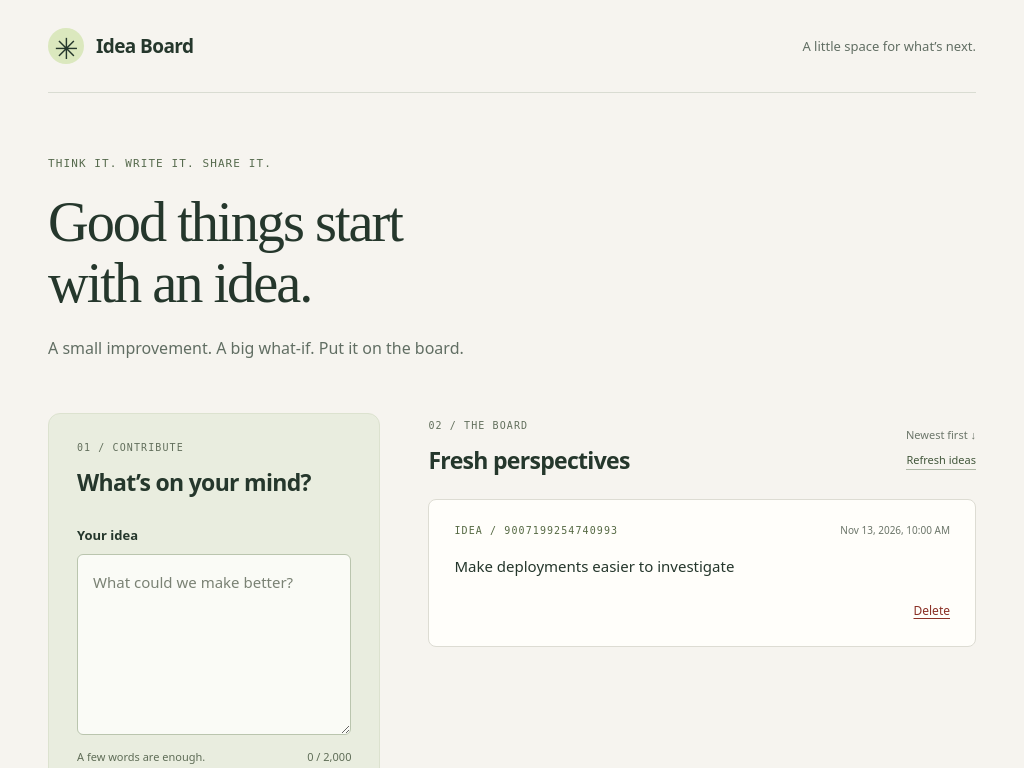
Idea Board › keeps an idea visible when deletion fails
The width and height of the screenshot is (1024, 768).
expect the button "Refresh ideas" is enabled: met, box x1=906 y1=452 x2=976 y2=470
Click the button "Delete": {"x": 932, "y": 610} x1=914 y1=598 x2=950 y2=623
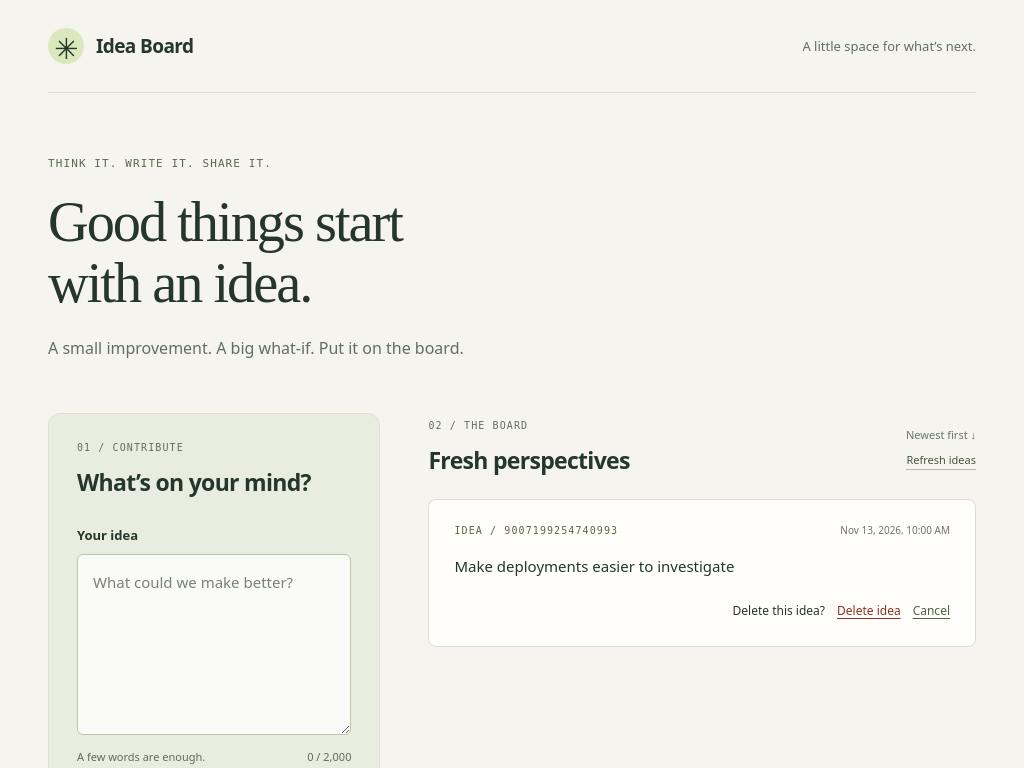
Click the button "Delete idea": {"x": 869, "y": 610} x1=837 y1=598 x2=901 y2=623
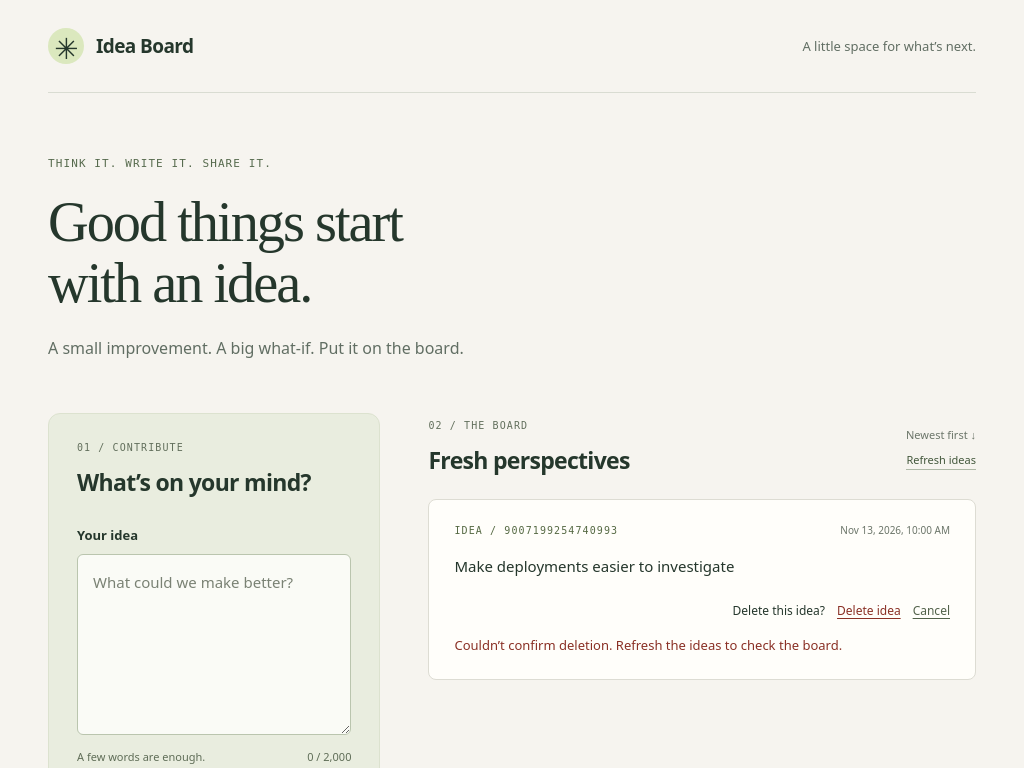
expect the text "Make deployments easier to investigate" is shown: met, box x1=454 y1=556 x2=734 y2=576
expect the message "Couldn’t confirm deletion. Refresh the ideas to check the board." is shown: met, box x1=454 y1=636 x2=842 y2=654
